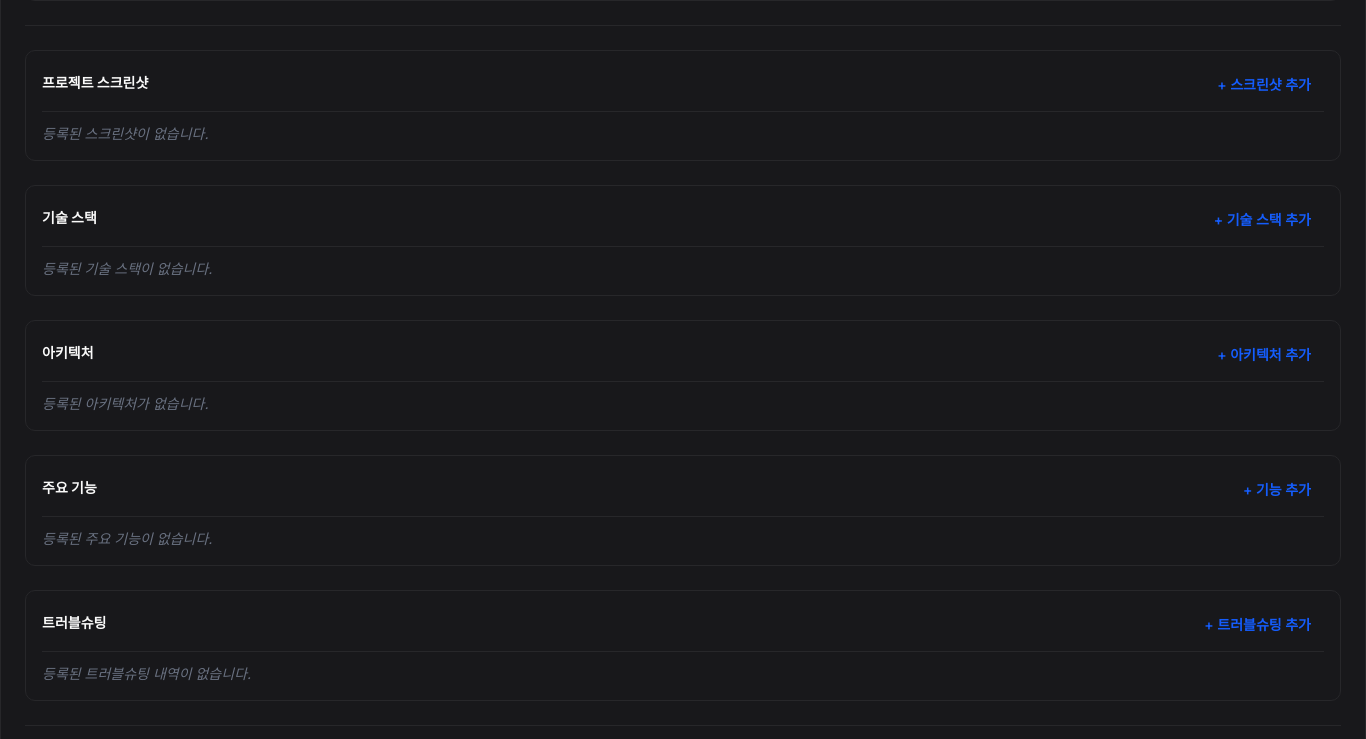
Scenario: ProjectForm 컴포넌트 › 아키텍처 항목 추가 버튼 클릭 시 새로운 아키텍처 필드가 렌더링되어야 한다
This screenshot has width=1366, height=739.
(page scrolled)
Click the button "+ 아키텍처 추가" at (1264, 355), box [1204, 337, 1324, 373]
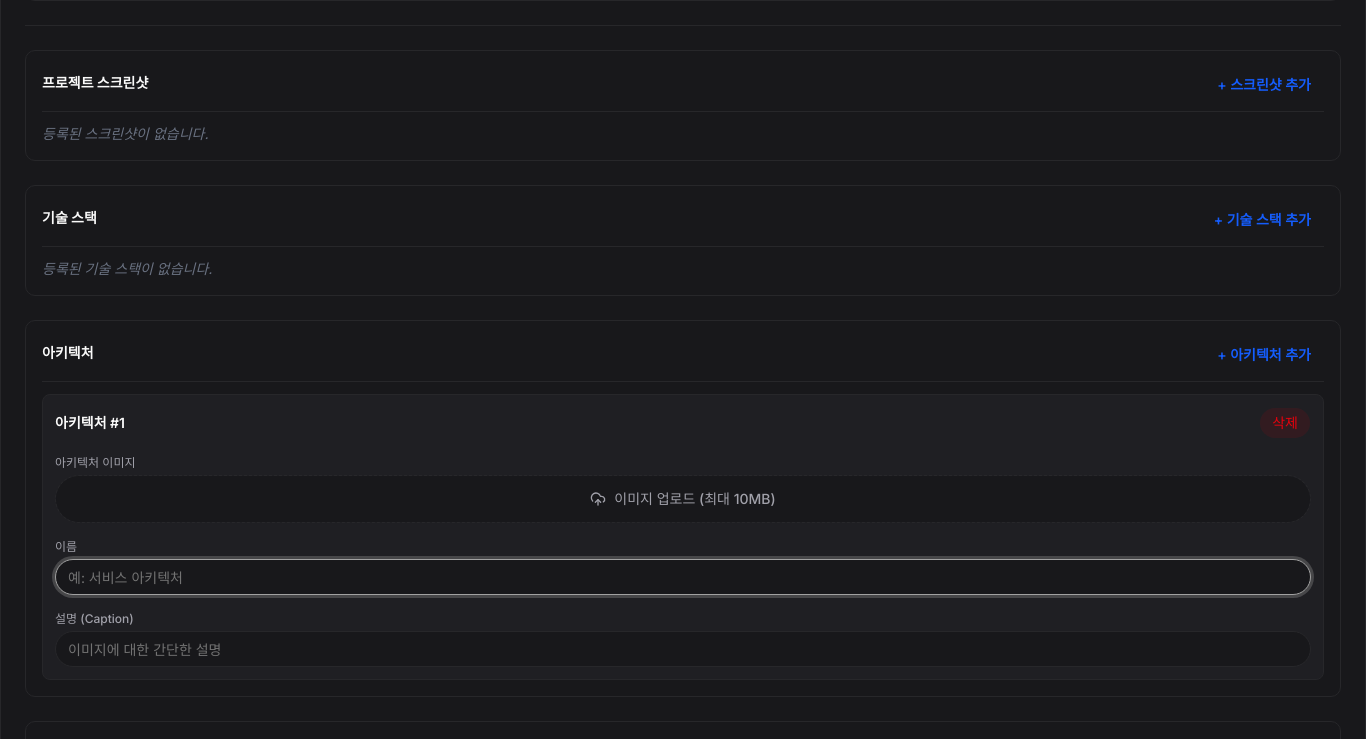
expect the field with placeholder "예: 서비스 아키텍처" is shown: met, box [55, 559, 1311, 595]
